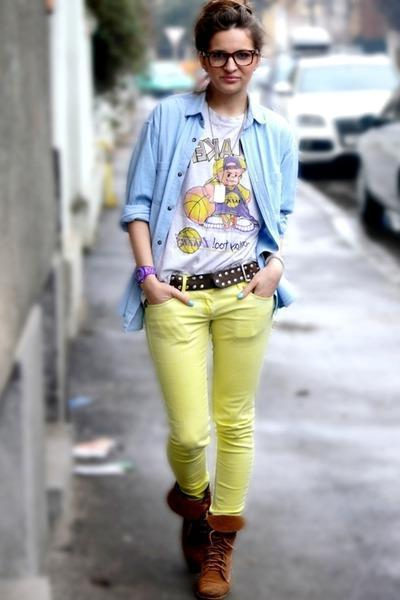short sleeve shirt: (113, 86, 315, 327), (154, 106, 265, 277)
trousers: (142, 268, 276, 506)
